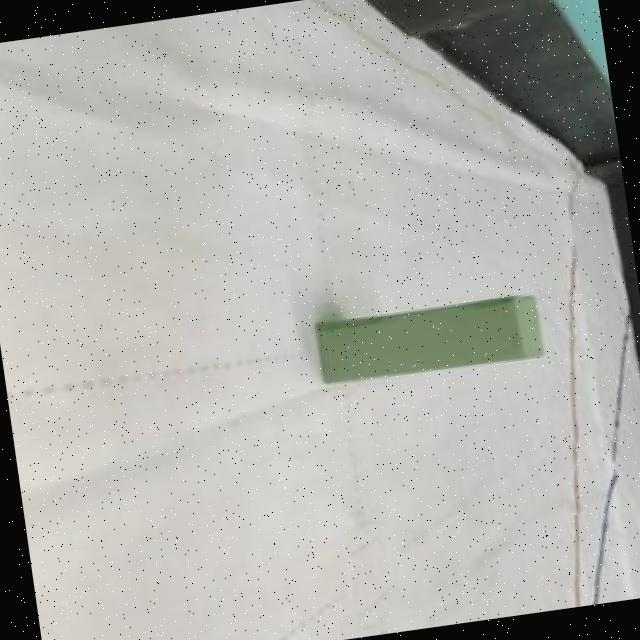greenbox: (309, 286, 551, 391)
